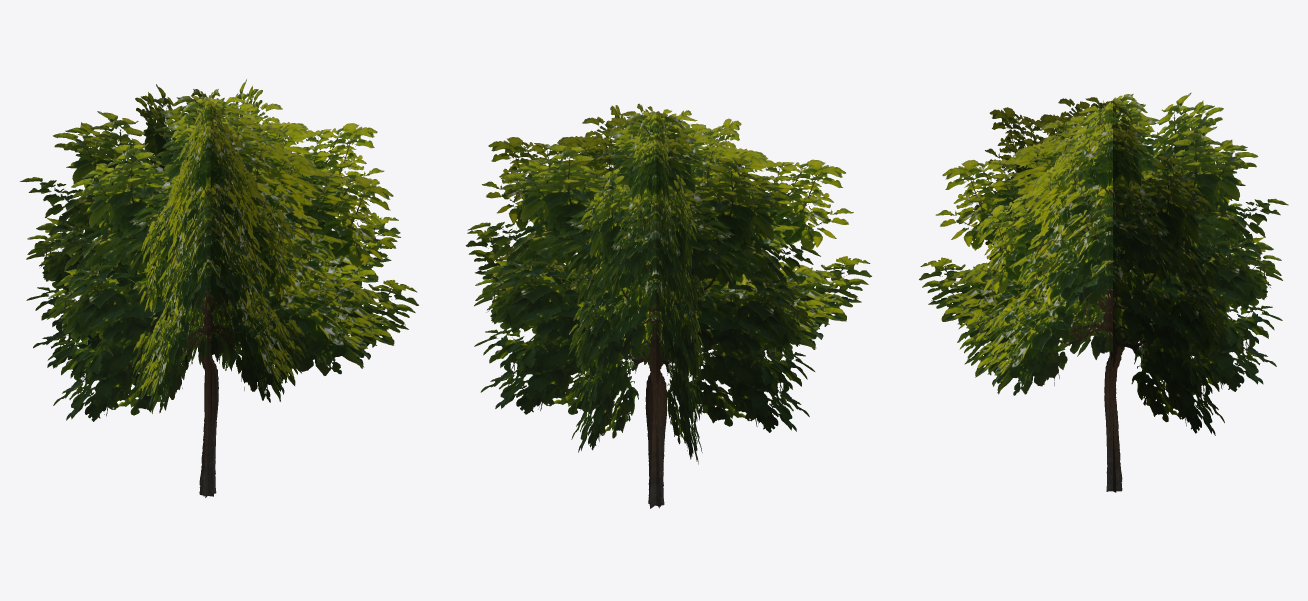
Rendered from thin-tree.fbx.
3 views of the same model, side by side, from view 1: azimuth 30°, elevation 25°; view 2: azimuth 150°, elevation 25°; view 3: azimuth 270°, elevation 25° (orthographic).
Parts seen in each view (by area): view 1: Plane; view 2: Plane; view 3: Plane.
Part boxes in pixels (x1=…): Plane: x1=20, y1=79, x2=418, y2=497; Plane: x1=465, y1=103, x2=871, y2=508; Plane: x1=919, y1=92, x2=1288, y2=492.
Bounding box in the file's own units: 4.06 × 4.19 × 3.69.
